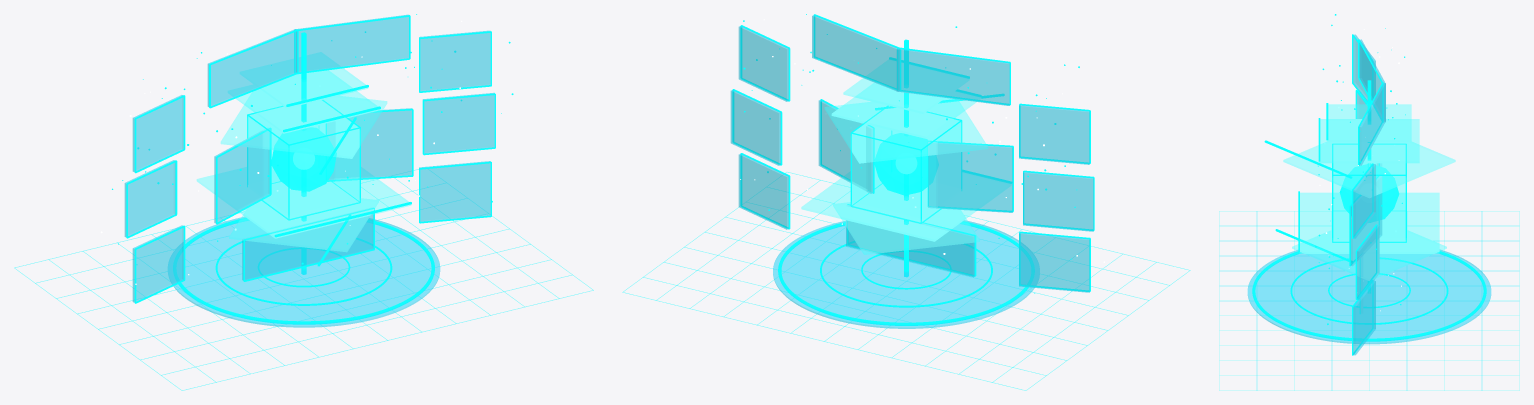
The model's file is hero-core-sukces24.glb.
3 renders of one model, left to right at view 1: azimuth 30°, elevation 25°; view 2: azimuth 150°, elevation 25°; view 3: azimuth 270°, elevation 25°, orthographic. The views are drawn at different scales.
Parts seen in each view (by area): view 1: BASE_TransparentDisc, CORE_OuterGlassCube, LAYER_GlassPlate_3, LAYER_GlassPlate_2, LAYER_GlassPlate_1, DASH_TopRightWide_Glass, DASH_BottomWide_Glass, DASH_CenterRight_Glass, LAYER_GlassPlate_4, PANEL_AI_Glass, PANEL_APP_Glass, PANEL_CRM_Glass (+10 smaller); view 2: BASE_TransparentDisc, CORE_OuterGlassCube, LAYER_GlassPlate_3, DASH_CenterLeft_Glass, LAYER_GlassPlate_2, DASH_TopLeftWide_Glass, LAYER_GlassPlate_4, LAYER_GlassPlate_1, DASH_TopRightWide_Glass, PANEL_WWW_Glass, PANEL_USERS_Glass, PANEL_MARKETING_Glass (+10 smaller); view 3: BASE_TransparentDisc, LAYER_GlassPlate_3, LAYER_GlassPlate_2, LAYER_GlassPlate_1, CORE_OuterGlassCube, LAYER_GlassPlate_4, LAYER_GlassPlate_5, DASH_CenterRight_Glass, BASE_OuterNeonRing, CORE_Crystal_Faceted, PANEL_APP_Glass, PANEL_CRM_Glass (+13 smaller).
Part boxes in pixels (x1=…): BASE_TransparentDisc: x1=168, y1=217, x2=440, y2=327; CORE_OuterGlassCube: x1=248, y1=113, x2=359, y2=218; LAYER_GlassPlate_3: x1=197, y1=167, x2=410, y2=238; LAYER_GlassPlate_2: x1=221, y1=89, x2=386, y2=158; LAYER_GlassPlate_1: x1=228, y1=70, x2=379, y2=133; DASH_TopRightWide_Glass: x1=294, y1=14, x2=408, y2=72; DASH_BottomWide_Glass: x1=242, y1=214, x2=373, y2=279; DASH_CenterRight_Glass: x1=327, y1=108, x2=411, y2=179; LAYER_GlassPlate_4: x1=229, y1=198, x2=378, y2=251; PANEL_AI_Glass: x1=419, y1=161, x2=490, y2=221; PANEL_APP_Glass: x1=419, y1=30, x2=490, y2=91; PANEL_CRM_Glass: x1=423, y1=93, x2=494, y2=153; BASE_TransparentDisc: x1=773, y1=220, x2=1039, y2=328; CORE_OuterGlassCube: x1=852, y1=119, x2=960, y2=221; LAYER_GlassPlate_3: x1=801, y1=168, x2=1010, y2=241; DASH_CenterLeft_Glass: x1=928, y1=142, x2=1012, y2=212; LAYER_GlassPlate_2: x1=825, y1=98, x2=987, y2=163; DASH_TopLeftWide_Glass: x1=896, y1=48, x2=1009, y2=105; LAYER_GlassPlate_4: x1=833, y1=202, x2=979, y2=254; LAYER_GlassPlate_1: x1=832, y1=83, x2=980, y2=138; DASH_TopRightWide_Glass: x1=812, y1=15, x2=899, y2=91; PANEL_WWW_Glass: x1=1019, y1=105, x2=1089, y2=164; PANEL_USERS_Glass: x1=1023, y1=172, x2=1093, y2=231; PANEL_MARKETING_Glass: x1=1019, y1=233, x2=1089, y2=292; BASE_TransparentDisc: x1=1247, y1=249, x2=1491, y2=344; LAYER_GlassPlate_3: x1=1299, y1=193, x2=1439, y2=253; LAYER_GlassPlate_2: x1=1283, y1=142, x2=1455, y2=197; LAYER_GlassPlate_1: x1=1319, y1=119, x2=1419, y2=162; CORE_OuterGlassCube: x1=1333, y1=163, x2=1405, y2=241; LAYER_GlassPlate_4: x1=1292, y1=230, x2=1446, y2=280; LAYER_GlassPlate_5: x1=1327, y1=104, x2=1411, y2=141; DASH_CenterRight_Glass: x1=1351, y1=176, x2=1381, y2=265; BASE_OuterNeonRing: x1=1252, y1=251, x2=1486, y2=341; CORE_Crystal_Faceted: x1=1339, y1=164, x2=1399, y2=222; PANEL_APP_Glass: x1=1353, y1=164, x2=1375, y2=238; PANEL_CRM_Glass: x1=1357, y1=225, x2=1379, y2=299.
Size of what is drawn, in the model's own units: 6.81 by 3.91 by 4.81.
